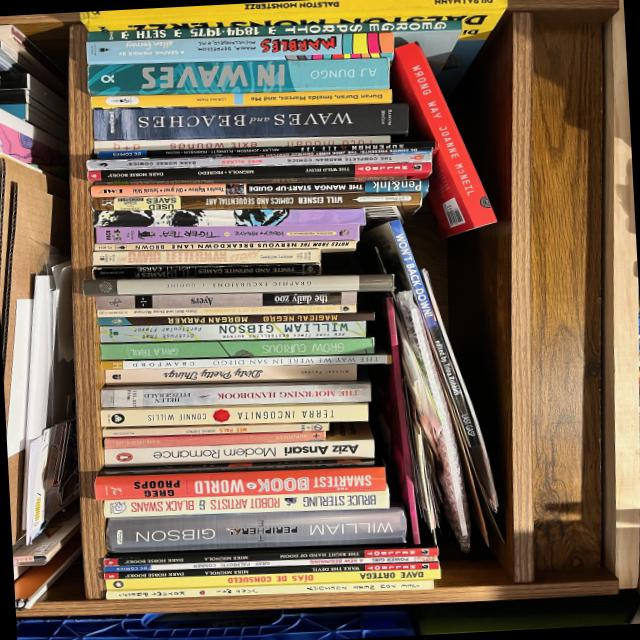book: (363, 215, 507, 521), (368, 36, 497, 244), (86, 13, 460, 75), (79, 0, 507, 40), (105, 507, 407, 554), (102, 420, 374, 472), (86, 57, 389, 97), (92, 103, 408, 141), (85, 31, 394, 66), (93, 466, 386, 501), (90, 190, 422, 220), (102, 488, 388, 519), (105, 567, 440, 592), (104, 543, 437, 567), (98, 380, 371, 409), (104, 579, 433, 601), (81, 274, 393, 297), (99, 402, 367, 428), (86, 151, 432, 171), (90, 89, 390, 111), (99, 337, 373, 361), (98, 320, 366, 344), (94, 141, 431, 160), (104, 554, 436, 573), (106, 561, 438, 580), (92, 207, 365, 228), (93, 224, 359, 244), (104, 364, 356, 385), (93, 290, 356, 310), (100, 353, 391, 371), (92, 135, 389, 152), (93, 146, 433, 160), (103, 430, 325, 450), (91, 248, 320, 267), (96, 303, 356, 319), (92, 262, 321, 280), (102, 421, 329, 438), (92, 240, 356, 253), (152, 175, 408, 186), (354, 162, 431, 180), (335, 311, 375, 323), (102, 180, 148, 186)
